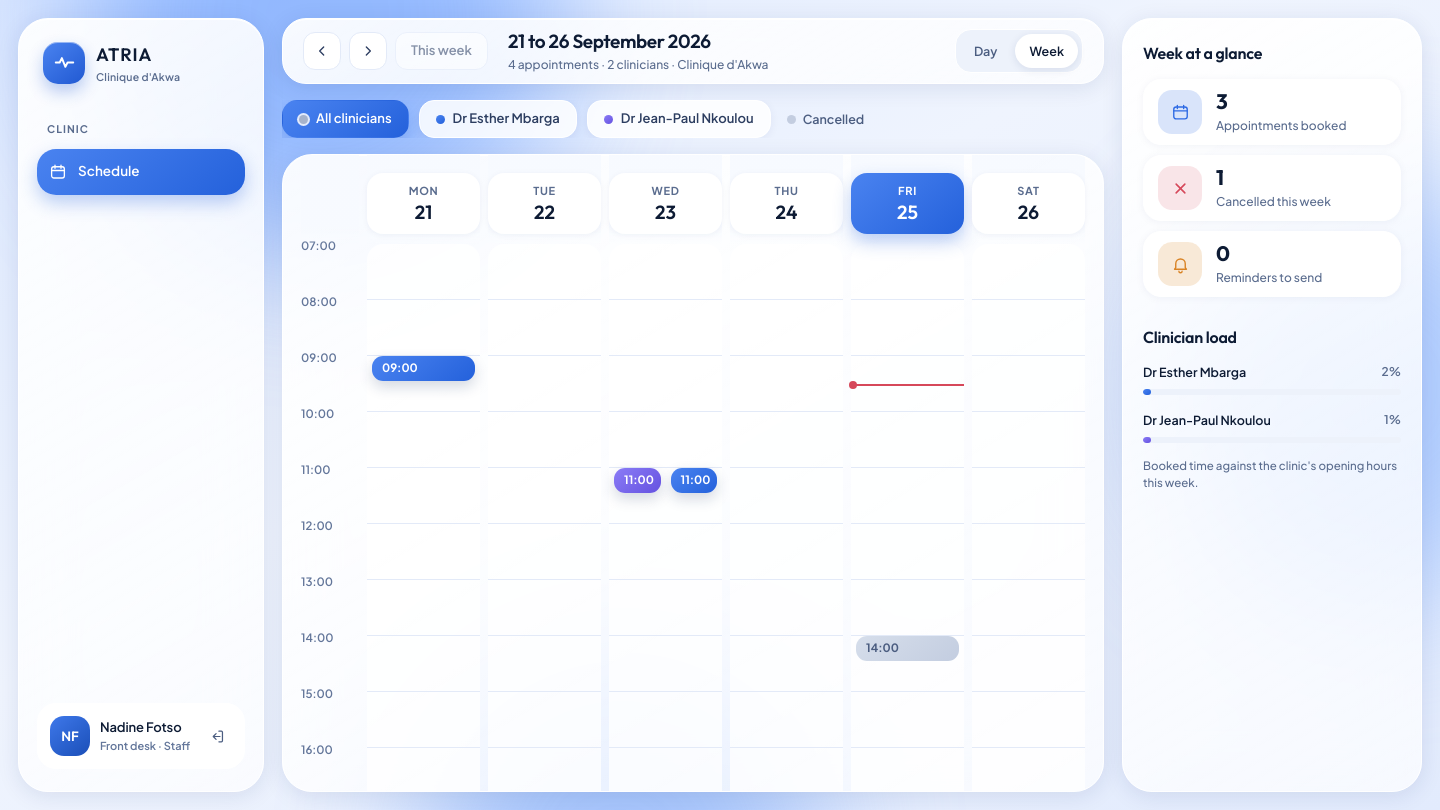
Test: Week view › narrows to one clinician, and counts only theirs
Expected: the button named "Patient A" is shown, [372,356,475,380]
Click the radio button labelled "Dr Esther Mbarga".
click(498, 119)  # box [418,100,577,138]
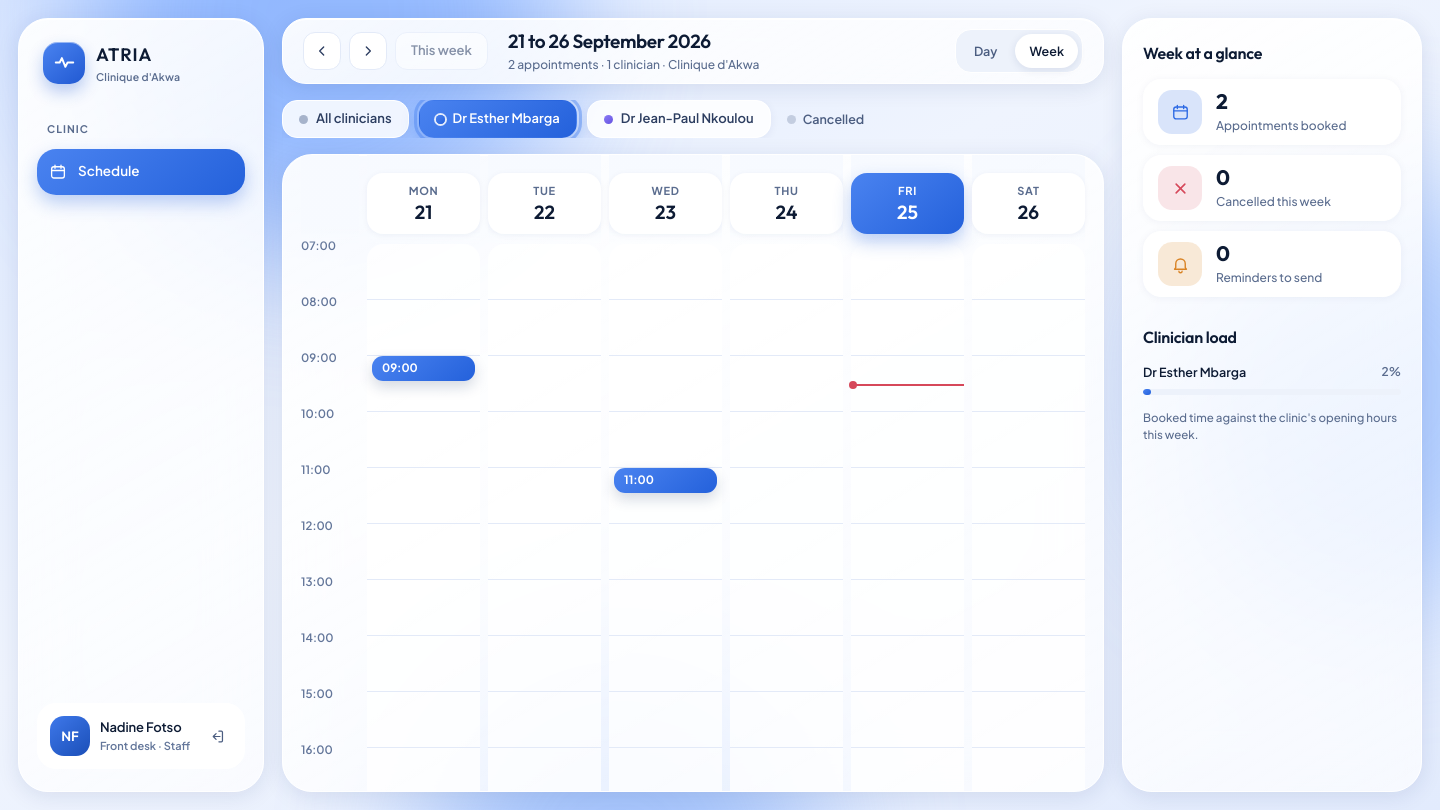
Expected: the number of buttons with class "week-block" is 2, [372,356,475,380]; [614,468,717,492]
